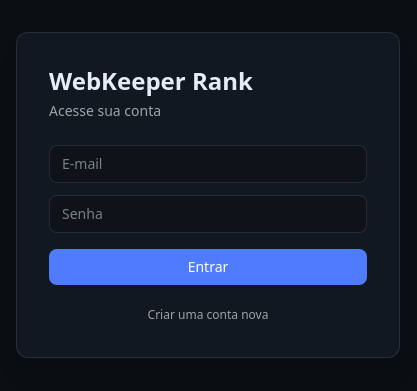
Scenario: LoginPage › shows an error and does not navigate on invalid credentials
Type "a@b.com" into the field with placeholder "E-mail".
click(208, 164); type("a@b.com")  # box [49,145,367,183]
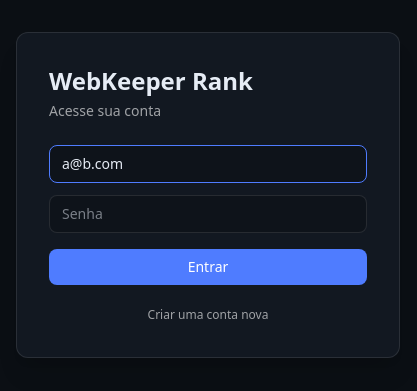
Type "wrong" into the password field with placeholder "Senha".
click(208, 214); type("wrong")  # box [49,195,367,233]
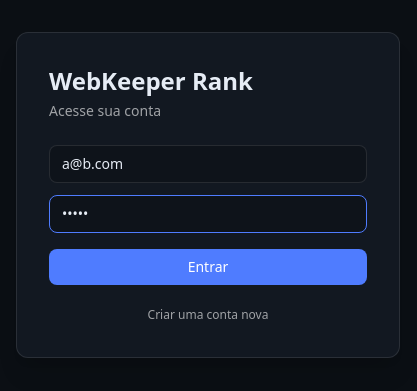
Click the button "Entrar".
click(208, 267)  # box [49,249,367,285]
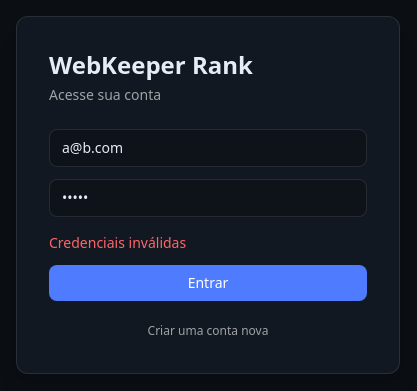
Check: the text "Credenciais inválidas" is shown, box [49,233,186,252]
